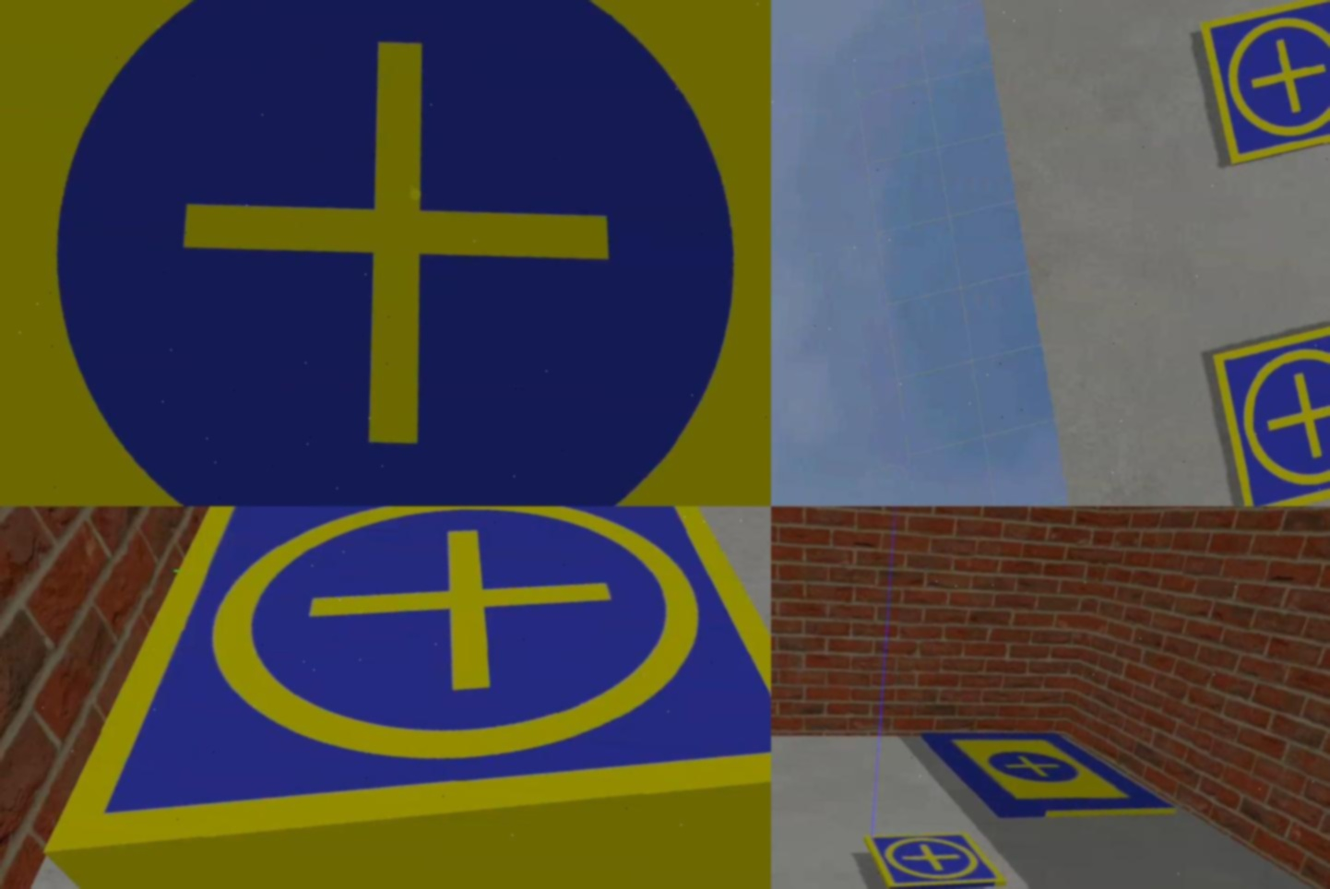large_base: (1, 1, 771, 506), (909, 720, 1184, 828)
small_base: (42, 506, 771, 889), (1196, 310, 1330, 506), (1190, 1, 1330, 174), (861, 830, 1015, 889)
